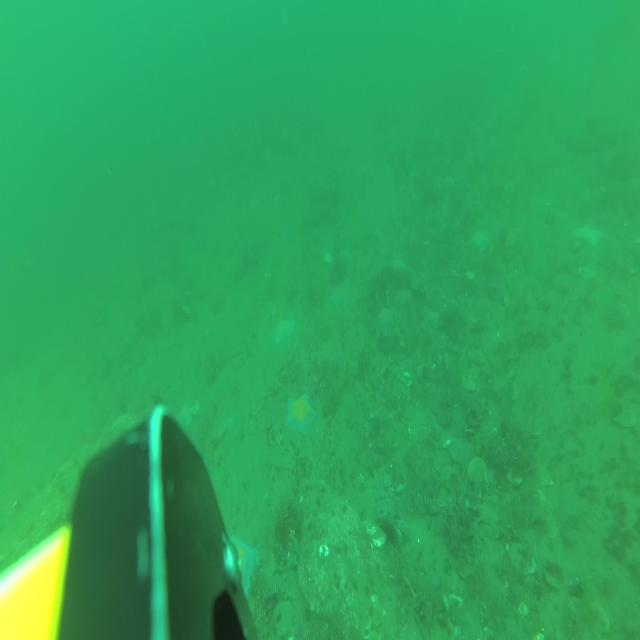echinus: (374, 508, 400, 557)
holothurian: (514, 328, 552, 351), (363, 613, 383, 640)
scallop: (507, 539, 537, 581), (585, 600, 610, 640), (428, 612, 456, 640), (411, 542, 435, 574), (542, 560, 566, 590), (614, 404, 638, 431), (466, 456, 487, 486), (433, 482, 454, 510), (267, 423, 283, 448), (359, 447, 378, 467), (526, 417, 544, 437), (485, 464, 499, 488), (461, 374, 478, 392), (464, 363, 480, 380)
starfish: (226, 532, 258, 600), (284, 388, 316, 438), (572, 222, 603, 252), (270, 316, 298, 348), (174, 399, 195, 433), (375, 301, 396, 333), (471, 227, 492, 255)
